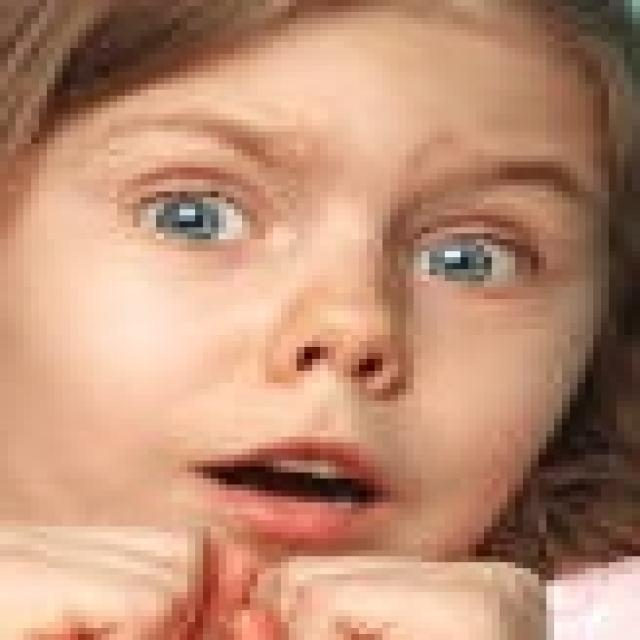Anxiety: (8, 3, 614, 562)
